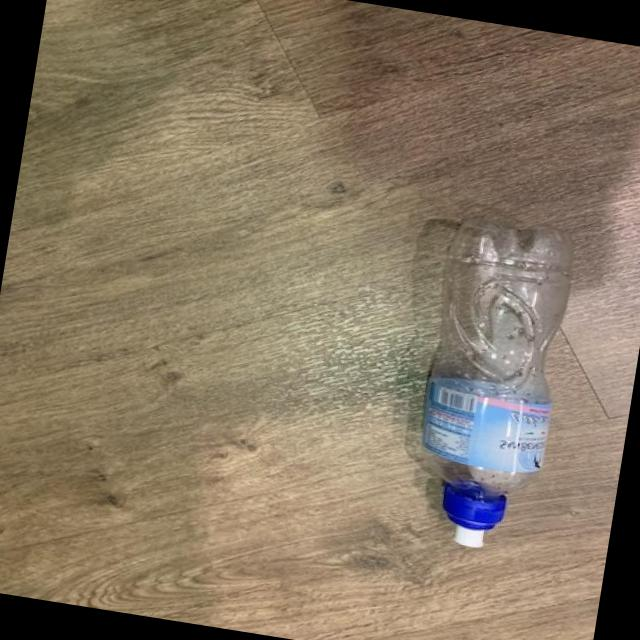plastic_bottle: (403, 212, 580, 556)
